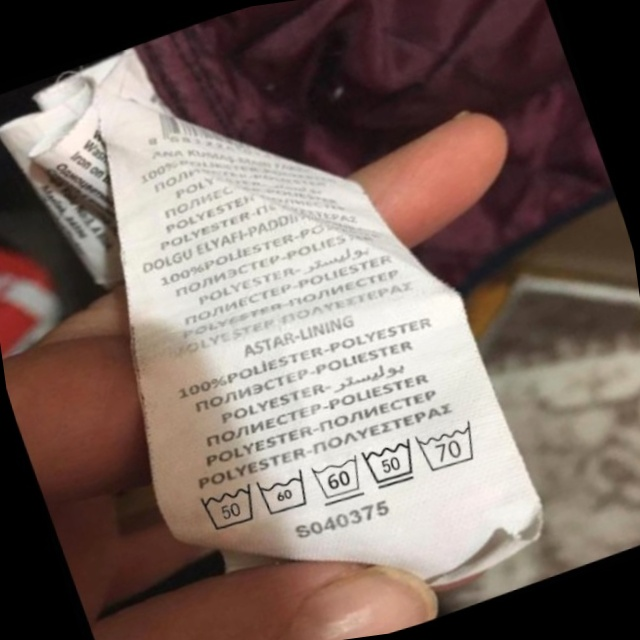50C: (189, 471, 269, 543), (355, 429, 428, 498)
60C: (305, 445, 375, 512), (250, 460, 320, 525)
70C: (411, 412, 491, 479)
